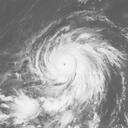cyclone: (28, 27, 110, 103)
